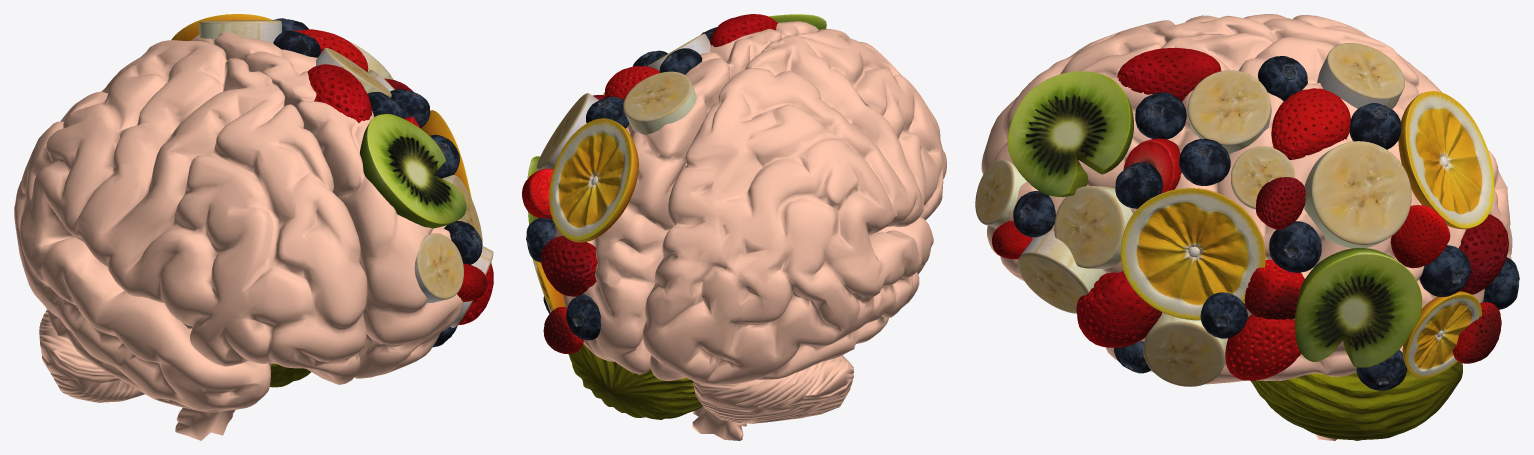
The model's file is v7_sweetspot.glb.
3 renders of one model, left to right at view 1: azimuth 30°, elevation 25°; view 2: azimuth 150°, elevation 25°; view 3: azimuth 270°, elevation 25°, orthographic. The views are drawn at different scales.
Visible parts, largest first — view 1: Brain_Part_06, Brain_Part_04, kiwi_02, Brain_Part_02, banana_06, morango_11, banana_07, Brain_Part_05, banana_08, blueberry_06, morango_10, blueberry_04 (+10 smaller); view 2: Brain_Part_06, Brain_Part_04, laranja_03, Brain_Part_02, sementeverde_01, banana_07, morango_09, banana_05, blueberry_08, morango_11, morango_07, morango_08 (+8 smaller); view 3: Brain_Part_04, laranja_01, kiwi_02, kiwi_01, sementeverde_01, laranja_03, Brain_Part_06, banana_05, banana_08, banana_03, banana_01, morango_03 (+27 smaller).
Boxes of the visible parts, x1,y1,x2,y2 form: Brain_Part_06: (14,40,367,412); Brain_Part_04: (191,32,463,378); kiwi_02: (360,114,466,228); Brain_Part_02: (39,310,144,402); banana_06: (414,233,463,303); morango_11: (307,64,371,123); banana_07: (199,20,281,42); Brain_Part_05: (175,323,272,440); banana_08: (316,48,391,97); blueberry_06: (444,221,482,264); morango_10: (292,29,368,72); blueberry_04: (390,89,430,127); Brain_Part_06: (642,29,946,385); Brain_Part_04: (552,21,818,374); laranja_03: (549,118,638,242); Brain_Part_02: (693,355,853,423); sementeverde_01: (568,343,702,419); banana_07: (623,71,696,135); morango_09: (541,236,597,296); banana_05: (536,93,598,170); blueberry_08: (566,294,600,340); morango_11: (710,14,777,47); morango_07: (543,307,583,353); morango_08: (522,168,553,219); Brain_Part_04: (987,33,1511,384); laranja_01: (1120,188,1265,320); kiwi_02: (1007,71,1133,197); kiwi_01: (1295,248,1422,367); sementeverde_01: (1251,361,1462,440); laranja_03: (1398,91,1494,229); Brain_Part_06: (981,14,1512,255); banana_05: (1304,141,1411,248); banana_08: (1187,70,1271,154); banana_03: (1054,186,1132,269); banana_01: (1143,313,1226,386); morango_03: (1076,271,1161,347).
Size of the model in its own units: 65.98 by 66.29 by 79.93.
12 materials, 11 textured.
